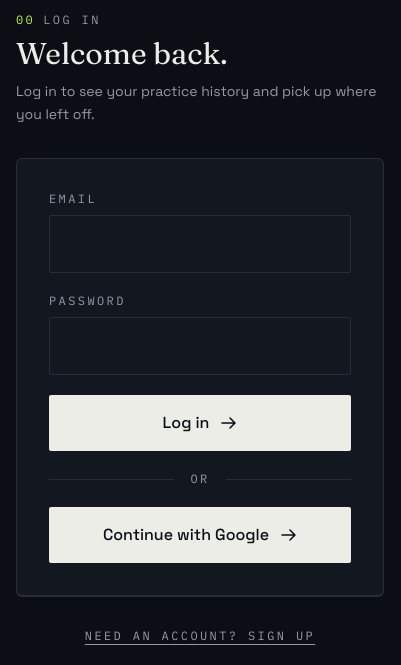
Scenario: LoginForm › toggles to sign-up mode and back
The width and height of the screenshot is (401, 665).
Click the button "Need an account? Sign up" at (200, 636), box [85, 628, 315, 644]
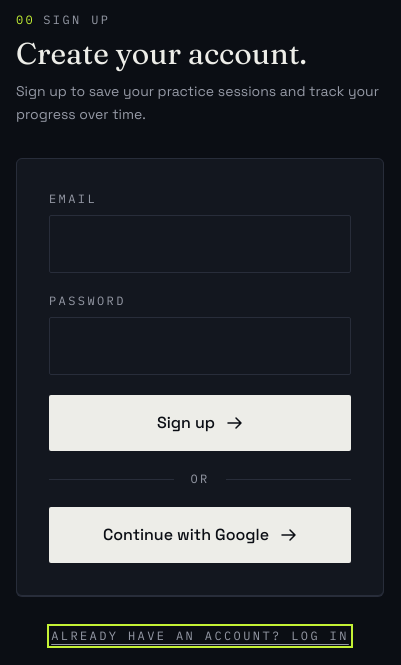
expect the button "Sign up" is shown: met, box [49, 395, 351, 451]
Click the button "Already have an account? Log in" at (200, 636), box [51, 628, 349, 644]
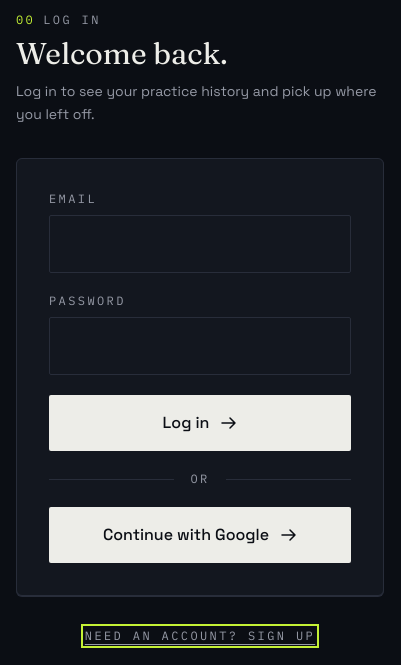
expect the button "Log in" is shown: met, box [49, 395, 351, 451]
